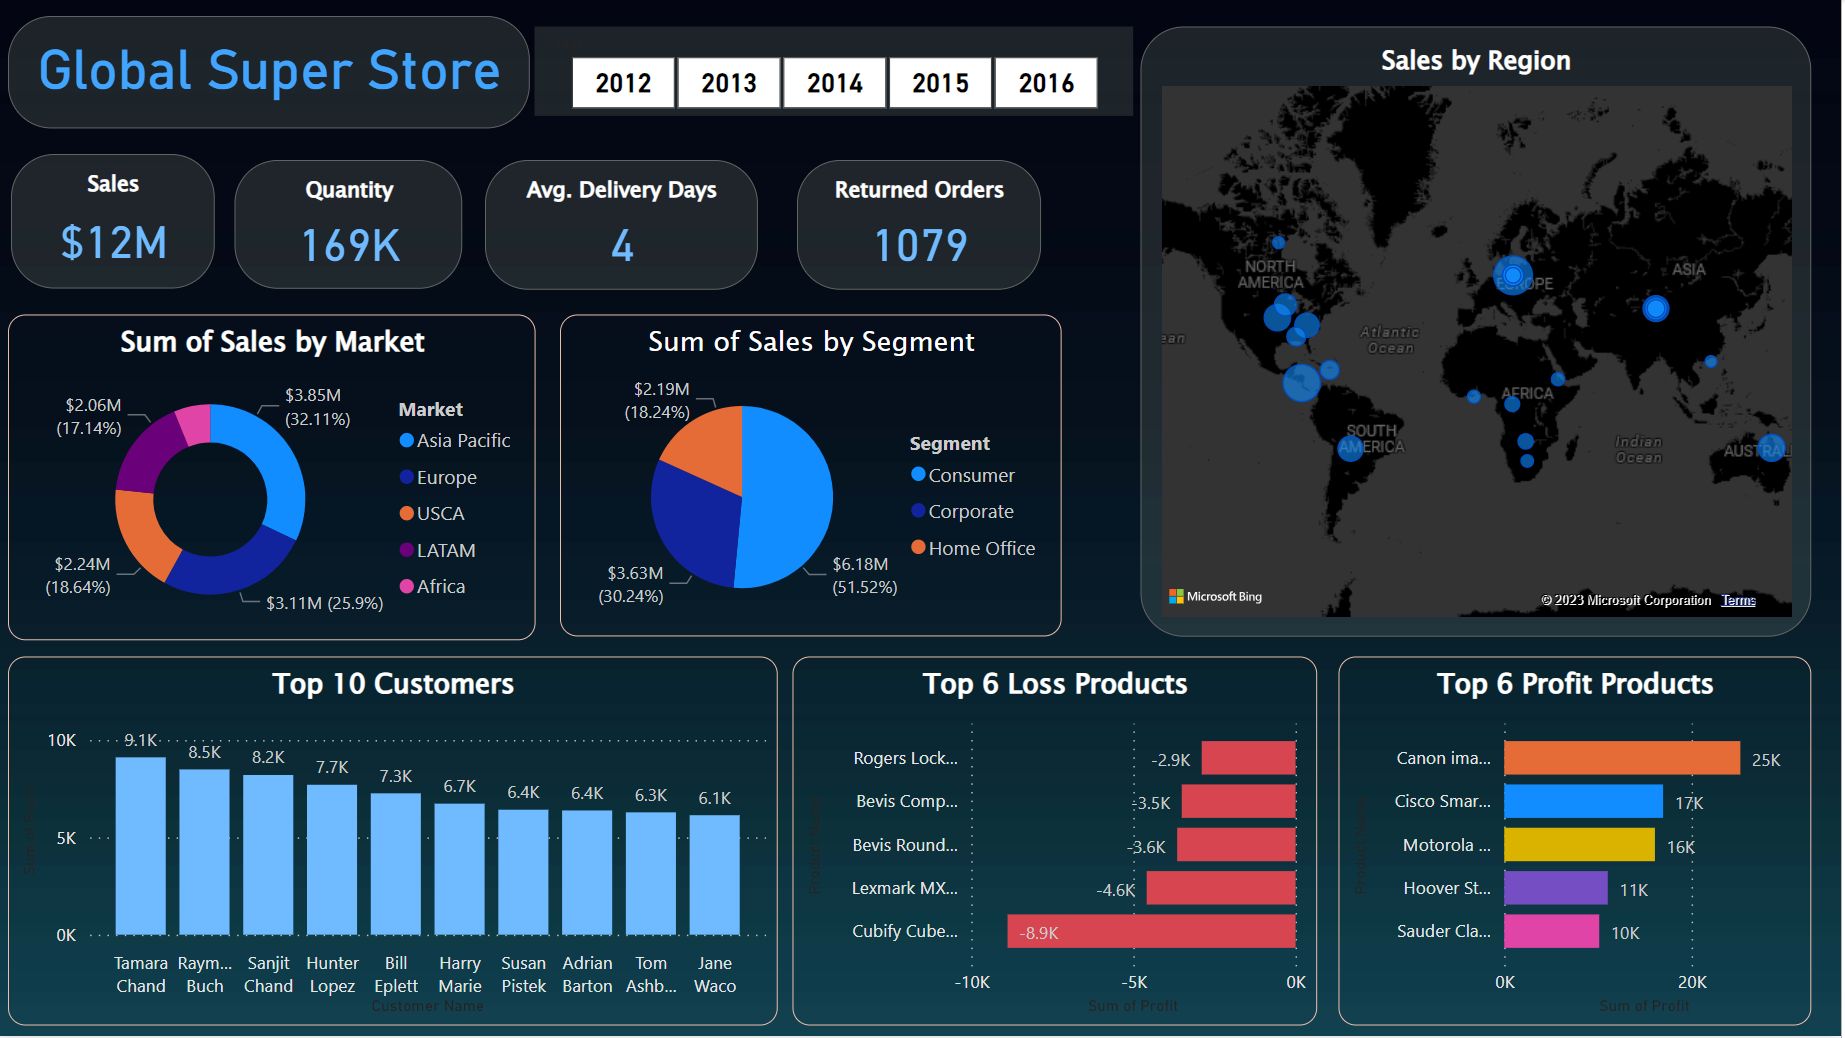

Layout of this report page (visuals, bound fields, positions):
{"tool":"powerbi","page":{"name":"Page 1","canvas":[1280,720],"ordinal":0},"visuals":[{"type":"card","title":"Sales","fields":{"Values":["Orders.Sales"]},"box":[10,108,141,93],"z":0},{"type":"card","title":"Quantity","fields":{"Values":["Orders.Quantity"]},"box":[165,112,158,89],"z":1000},{"type":"card","title":"Avg. Delivery Days","fields":{"Values":["Orders.Delivery Days"]},"box":[339,112,189,90],"z":2000},{"type":"slicer","fields":{"Values":["Orders.Year"]},"box":[374,20,415,62],"z":3000},{"type":"card","title":"Returned Orders","fields":{"Values":["Returns.Return Orders"]},"box":[556,112,169,90],"z":4000},{"type":"map","title":"Sales by Region","fields":{"Category":["Orders.Region"],"Size":["Orders.Quantity"]},"box":[794,20,465,423],"z":5000},{"type":"barChart","title":"Top 6 Profit Products","fields":{"Y":["Orders.Profit"],"Category":["Orders.Product Name"]},"box":[931,457,328,256],"z":6000},{"type":"barChart","title":"Top 6 Loss Products","fields":{"Y":["Orders.Profit"],"Category":["Orders.Product Name"]},"box":[553,457,364,256],"z":7000},{"type":"pieChart","fields":{"Category":["Orders.Segment"],"Y":["Orders.Sales"]},"box":[391,220,348,223],"z":8000},{"type":"donutChart","fields":{"Y":["Orders.Sales"],"Category":["Orders.Market"]},"box":[8,220,366,226],"z":9000},{"type":"clusteredColumnChart","title":"Top 10 Customers","fields":{"Category":["Orders.Customer Name"],"Y":["Orders.Profit"]},"box":[8,457,534,256],"z":10000},{"type":"textbox","box":[8,12,362,78],"z":11000}]}

Visuals, with their boxes in screenshot pixels (x1, y1, x2, y2), scaled from the page's 1280x720 canvas onto the 1845x1038 screenshot:
"Sales" card: <box>14,156,218,290</box>
"Quantity" card: <box>238,161,466,290</box>
"Avg. Delivery Days" card: <box>489,161,761,291</box>
slicer - Orders.Year: <box>539,29,1137,118</box>
"Returned Orders" card: <box>801,161,1045,291</box>
"Sales by Region" map: <box>1144,29,1815,639</box>
"Top 6 Profit Products" barChart: <box>1342,659,1815,1028</box>
"Top 6 Loss Products" barChart: <box>797,659,1322,1028</box>
pieChart - Orders.Segment x Orders.Sales: <box>564,317,1065,639</box>
donutChart - Orders.Sales x Orders.Market: <box>12,317,539,643</box>
"Top 10 Customers" clusteredColumnChart: <box>12,659,781,1028</box>
textbox: <box>12,17,533,130</box>
